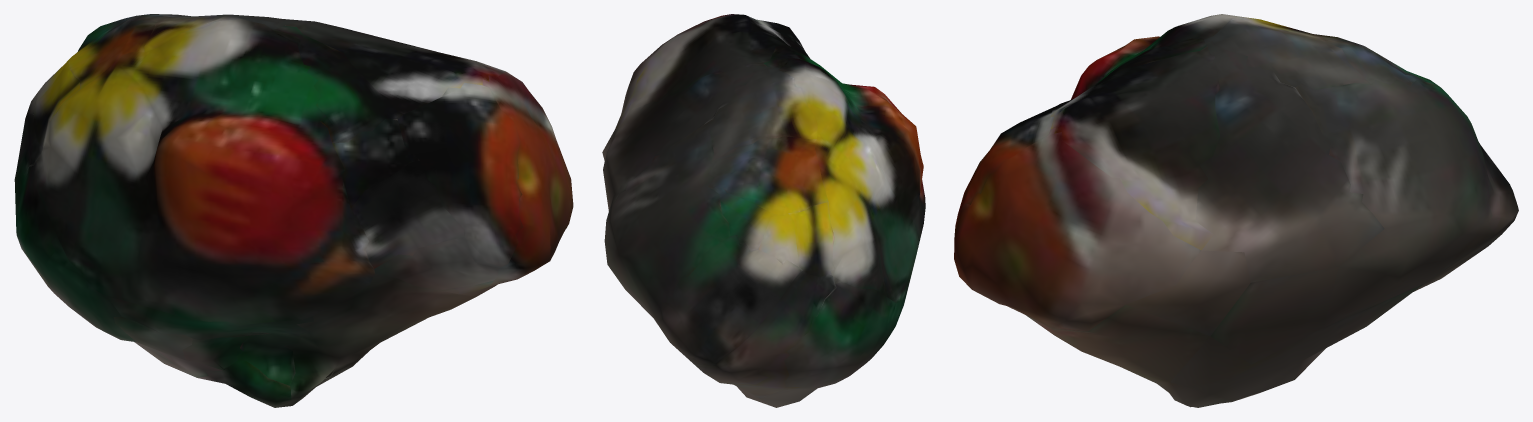
Rendered from hall.glb.
3 views of the same model, side by side, from view 1: azimuth 30°, elevation 25°; view 2: azimuth 150°, elevation 25°; view 3: azimuth 270°, elevation 25° (orthographic). The views are drawn at different scales.
Size of the model in its own units: 0.2305 by 0.2038 by 0.2854.
Materials: 1 (1 with a texture image).
